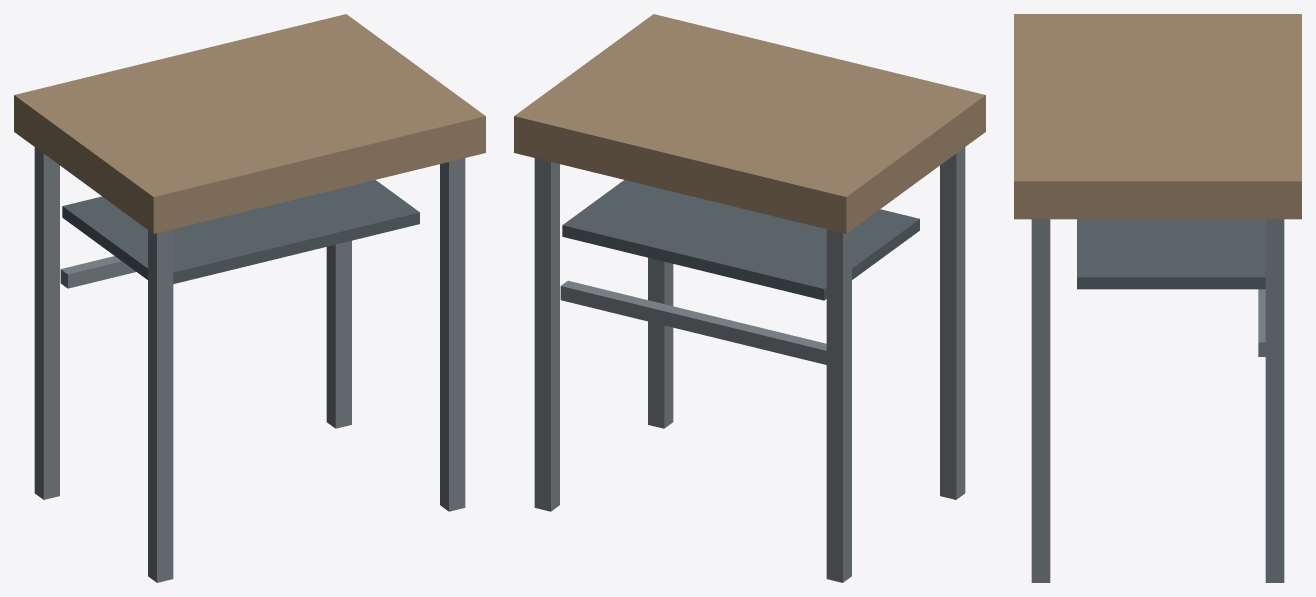
File: CLS-001.glb
3 views of the same model, side by side, from view 1: azimuth 30°, elevation 25°; view 2: azimuth 150°, elevation 25°; view 3: azimuth 270°, elevation 25° (orthographic). The views are drawn at different scales.
Parts seen in each view (by area): view 1: 000_Wood_desk_top, 006_Shelf_beneath_top, 001_Steel_frame, 003_Steel_frame, 002_Steel_frame, 004_Steel_frame, 005_Rear_brace; view 2: 000_Wood_desk_top, 006_Shelf_beneath_top, 002_Steel_frame, 004_Steel_frame, 001_Steel_frame, 005_Rear_brace, 003_Steel_frame; view 3: 000_Wood_desk_top, 006_Shelf_beneath_top, 003_Steel_frame, 004_Steel_frame, 005_Rear_brace.
Part boxes in pixels (x1,y1,x2,y2): 000_Wood_desk_top: (14,14,485,233); 006_Shelf_beneath_top: (62,180,419,283); 001_Steel_frame: (148,229,173,582); 003_Steel_frame: (440,158,465,511); 002_Steel_frame: (34,147,59,499); 004_Steel_frame: (326,240,351,428); 005_Rear_brace: (60,256,135,288); 000_Wood_desk_top: (514,14,985,233); 006_Shelf_beneath_top: (562,180,919,300); 002_Steel_frame: (826,229,851,582); 004_Steel_frame: (534,158,559,511); 001_Steel_frame: (940,147,965,499); 005_Rear_brace: (560,280,826,364); 003_Steel_frame: (648,257,673,428); 000_Wood_desk_top: (1014,14,1301,219); 006_Shelf_beneath_top: (1077,219,1265,289); 003_Steel_frame: (1031,219,1050,582); 004_Steel_frame: (1265,219,1284,582); 005_Rear_brace: (1258,289,1265,356).
Size of the model in its own units: 0.66 by 0.75 by 0.48.
